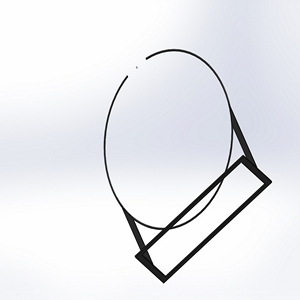circle: (103, 46, 274, 284)
